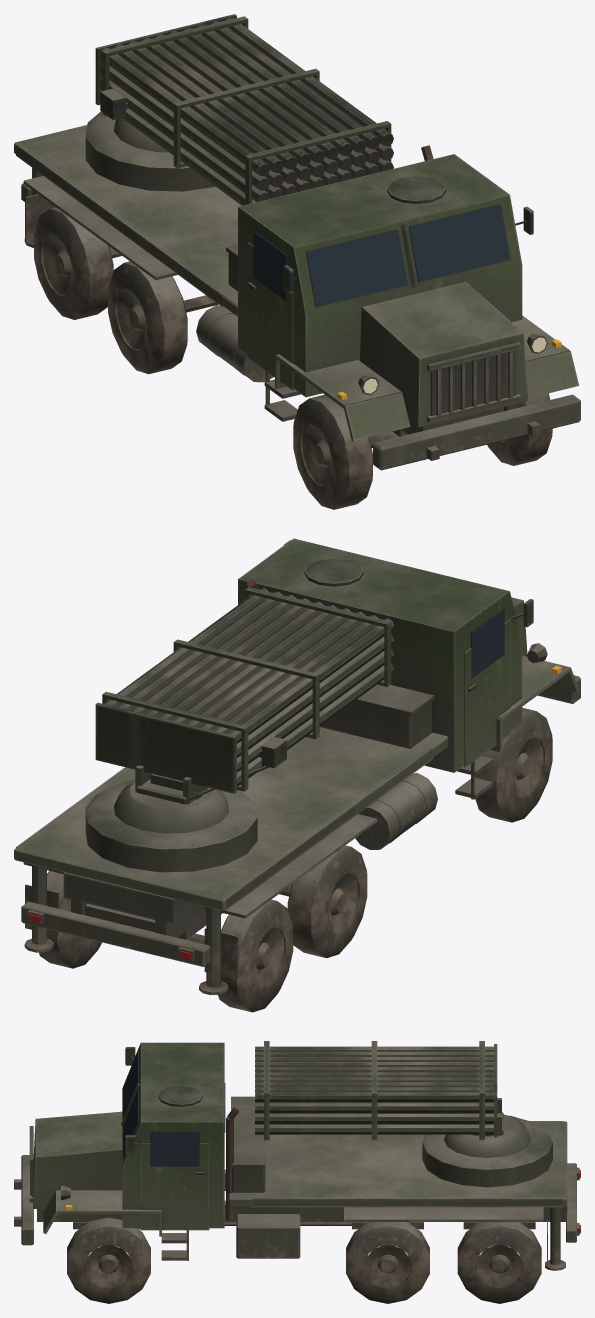
File: Weathered_Rocket.fbx
The picture shows the model from 3 angles, top to bottom: view 1: azimuth 30°, elevation 25°; view 2: azimuth 150°, elevation 25°; view 3: azimuth 270°, elevation 25°; orthographic projection. The views are drawn at different scales.
Parts seen in each view (by area): view 1: Enemy_Rocket_Mesh, Turret; view 2: Enemy_Rocket_Mesh, Turret; view 3: Enemy_Rocket_Mesh, Turret.
Boxes of the visible parts, bbox=[...] form: Enemy_Rocket_Mesh: bbox=[14, 111, 580, 509]; Turret: bbox=[95, 14, 393, 205]; Enemy_Rocket_Mesh: bbox=[14, 538, 580, 1012]; Turret: bbox=[95, 587, 393, 804]; Enemy_Rocket_Mesh: bbox=[14, 1042, 580, 1303]; Turret: bbox=[255, 1041, 503, 1140].
Size of the model in its own units: 2.66 by 2.76 by 7.11.
